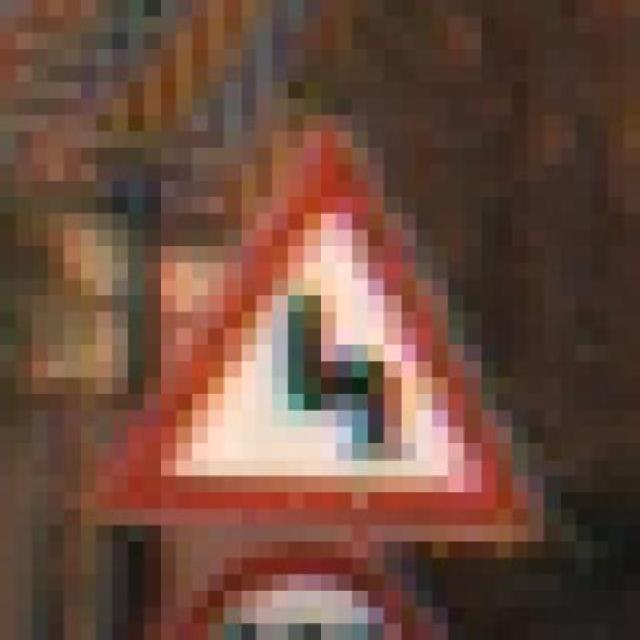Left Zig Zag Traffic: (96, 81, 576, 542)
